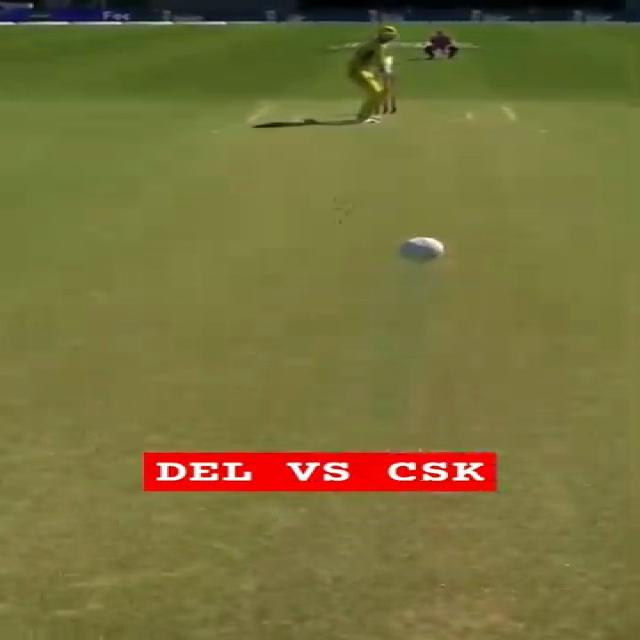ball: (391, 230, 450, 272), (388, 232, 446, 269)
